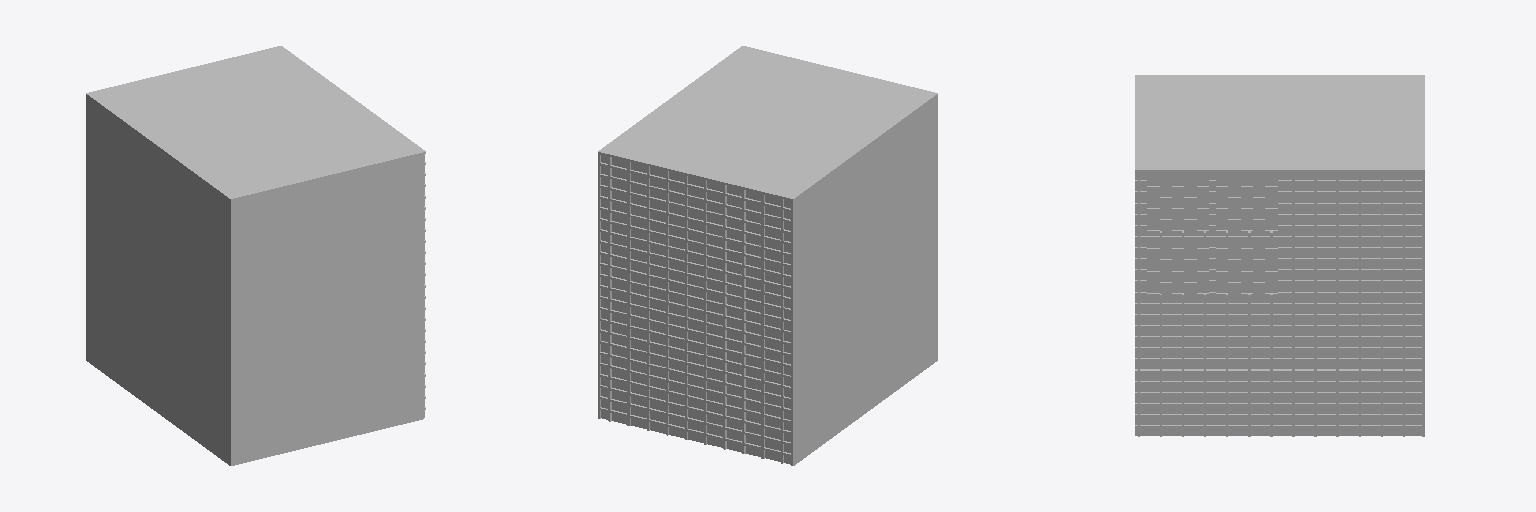
The model's file is 3d fon 1.1-15.obj.
The picture shows the model from 3 angles: view 1: azimuth 30°, elevation 25°; view 2: azimuth 150°, elevation 25°; view 3: azimuth 270°, elevation 25°; orthographic projection.
Parts seen in each view (by area): view 1: object 1; view 2: object 1; view 3: object 1.
Boxes of the visible parts, box(x1,y1,x2,y2) form: object 1: box(86, 46, 425, 465); object 1: box(598, 46, 937, 465); object 1: box(1135, 75, 1424, 436).
Size of the model in its own units: 9.2 by 12 by 11.8.